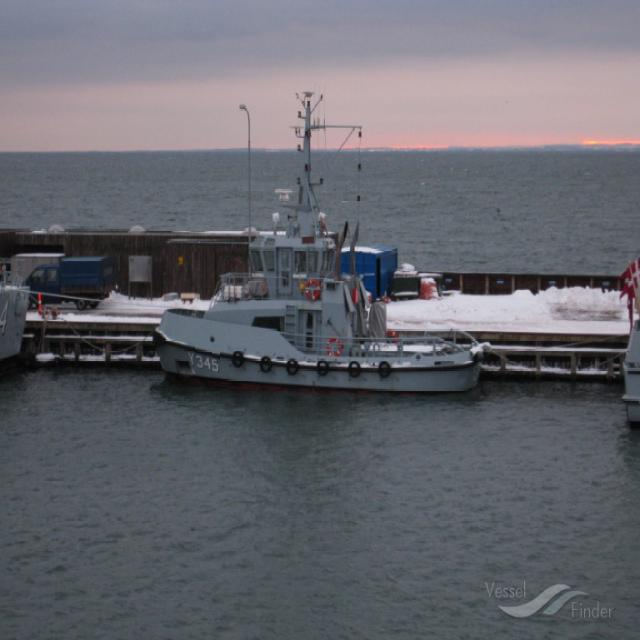OCR: (187, 344, 220, 374)
